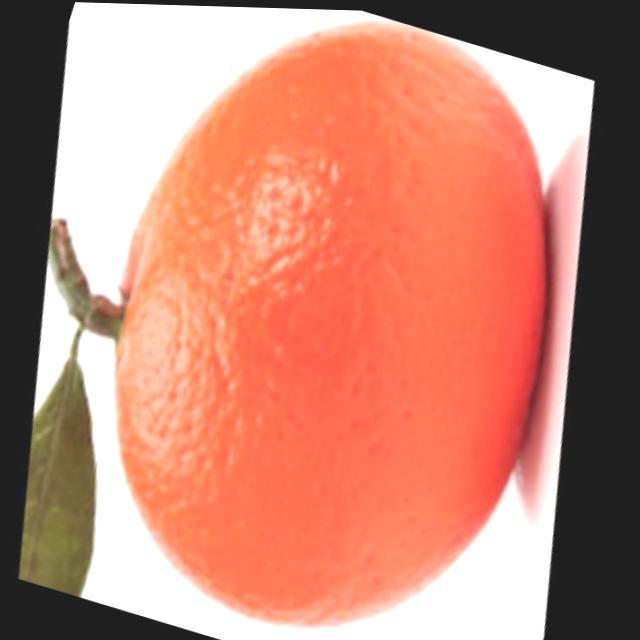Orange: (30, 1, 637, 640)
